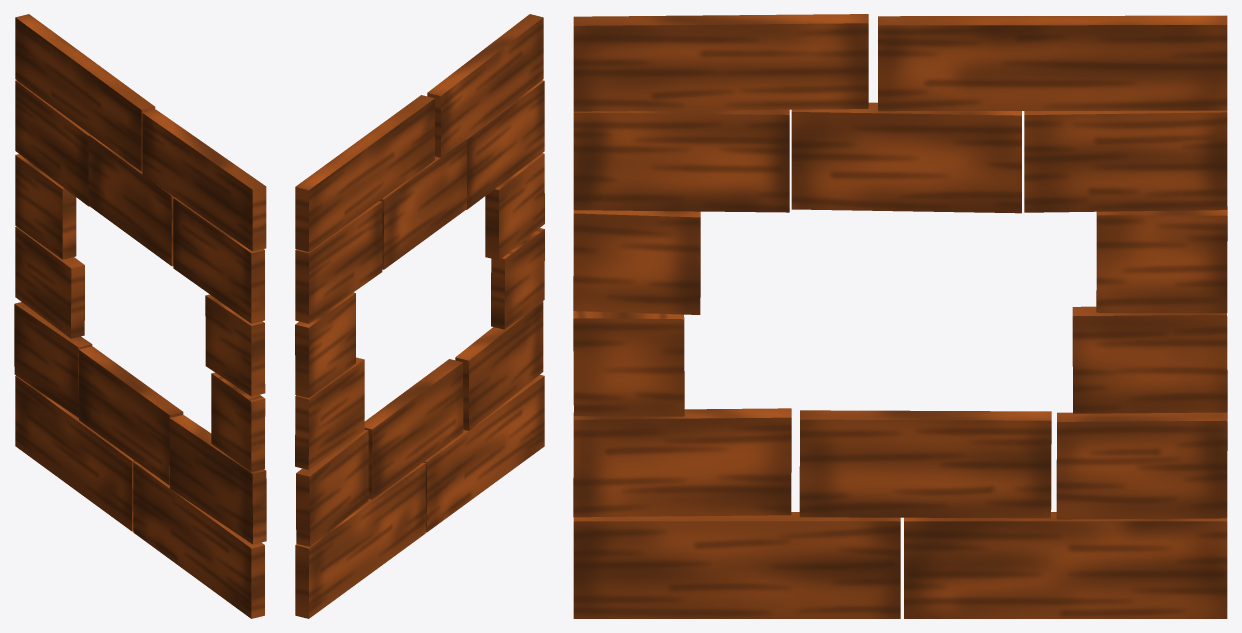
Rendered from parede janela madeira.fbx.
3 views of the same model, side by side, from view 1: azimuth 30°, elevation 25°; view 2: azimuth 150°, elevation 25°; view 3: azimuth 270°, elevation 25° (orthographic). The views are drawn at different scales.
Parts seen in each view (by area): view 1: PAREDE.007; view 2: PAREDE.007; view 3: PAREDE.007.
Part boxes in pixels (left/top/right/bottom): PAREDE.007: left=14, top=14, right=266, bottom=618; PAREDE.007: left=295, top=14, right=544, bottom=618; PAREDE.007: left=573, top=14, right=1227, bottom=618.
Bounding box in the file's own units: 10.44 × 200 × 200.
Materials: 1 (1 with a texture image).
